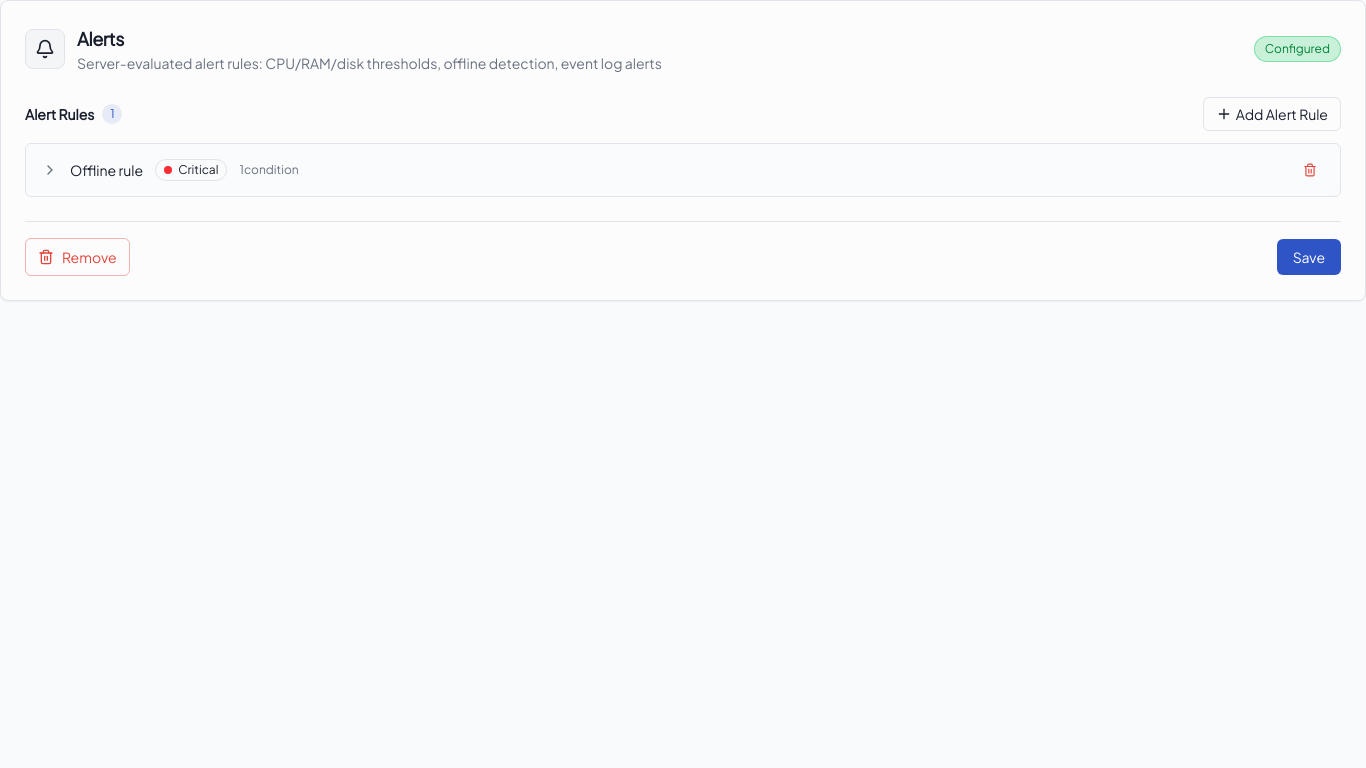
Scenario: AlertRuleTab (issue #1857) › renders the offline-duration editor for a migrated legacy status rule
Click the text "Offline rule" at x=107, y=170, box x1=70 y1=160 x2=143 y2=180
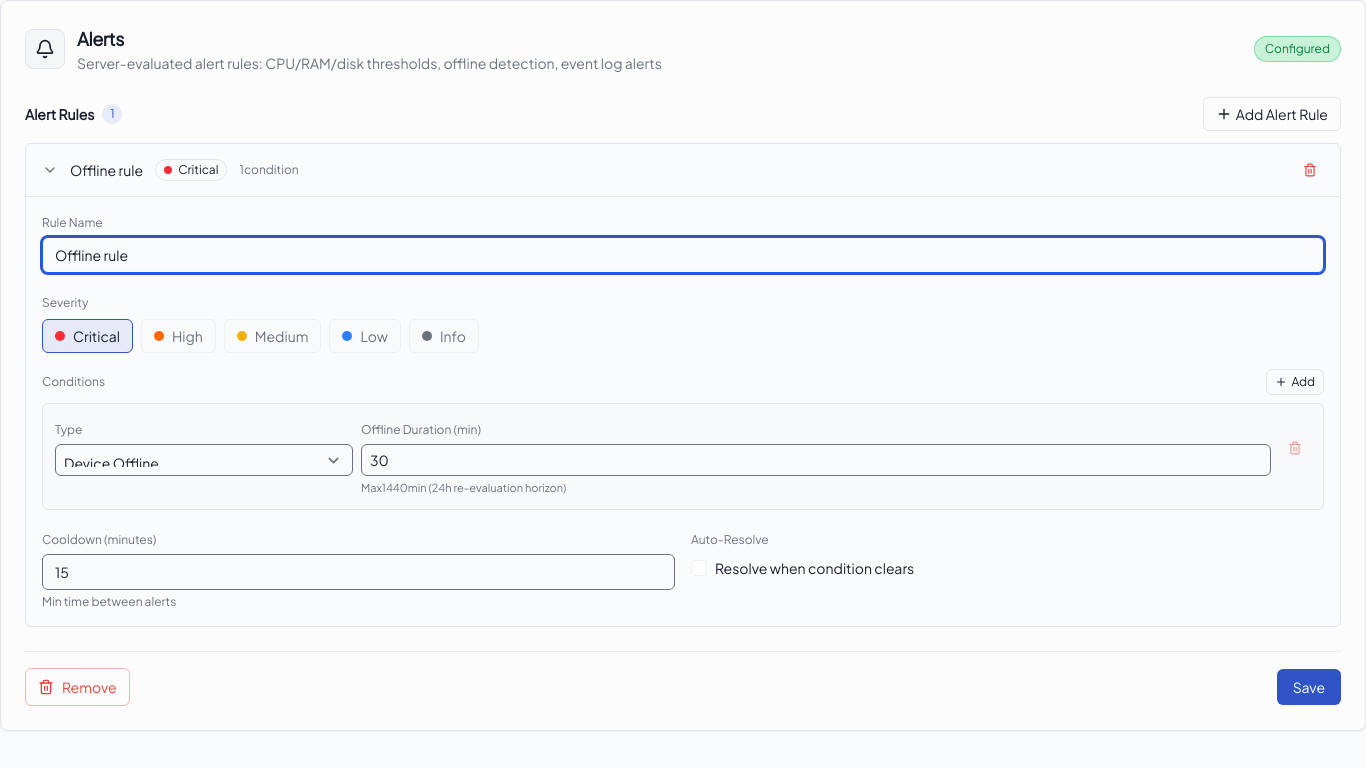
expect the number field below "Offline Duration (min)" holds "30": met, box x1=361 y1=444 x2=1271 y2=476
